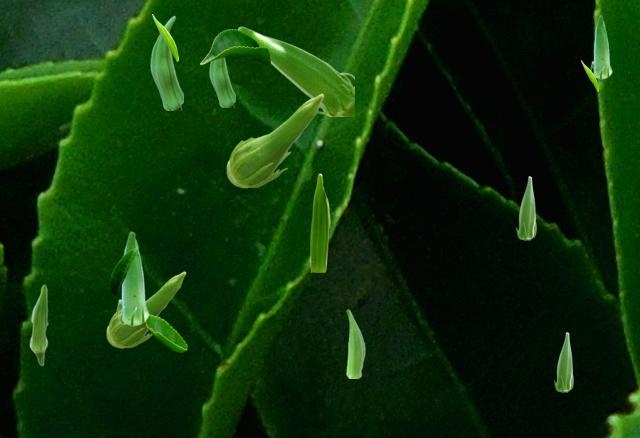okra: (237, 26, 353, 115), (226, 93, 323, 187), (106, 271, 185, 347), (150, 15, 182, 109), (116, 231, 148, 325), (310, 173, 329, 271), (29, 284, 47, 365), (590, 15, 611, 78), (346, 309, 364, 377), (209, 58, 234, 106), (516, 176, 535, 239), (554, 332, 572, 391)
